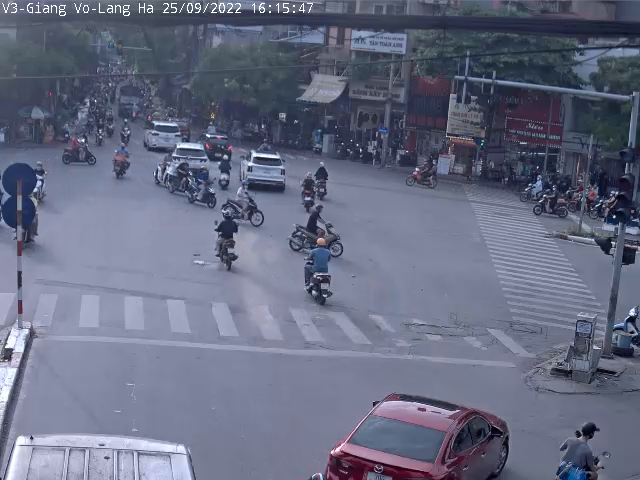người trên xe: (550, 419, 614, 480), (290, 199, 345, 258), (298, 237, 341, 308), (219, 175, 266, 231), (204, 206, 242, 273), (155, 150, 191, 196), (532, 188, 573, 228), (186, 162, 218, 213), (398, 157, 440, 194), (64, 130, 99, 169), (26, 160, 58, 202), (295, 169, 318, 213), (518, 169, 545, 206), (216, 151, 239, 192), (311, 157, 331, 203), (112, 141, 134, 182), (118, 119, 137, 146)
